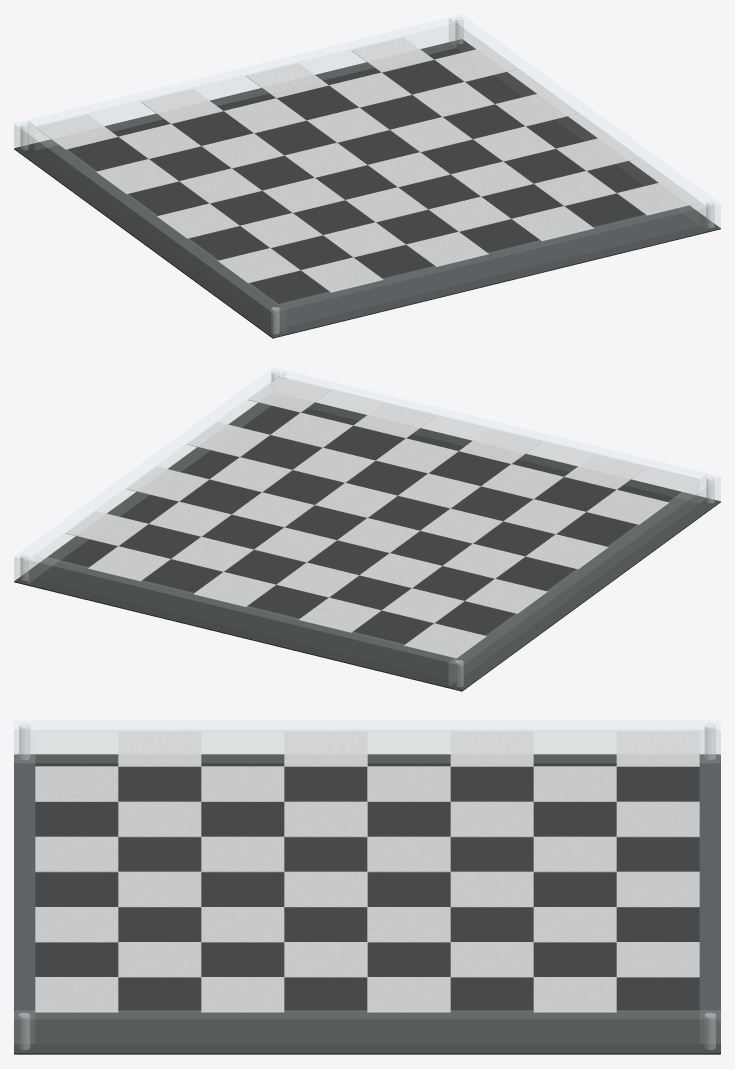
File: board.glb
3 views of the same model, one above another, from view 1: azimuth 30°, elevation 25°; view 2: azimuth 150°, elevation 25°; view 3: azimuth 270°, elevation 25° (orthographic). The views are drawn at different scales.
Parts seen in each view (by area): view 1: Podklad, Matovana_pole, Ram, Rohove_koliky; view 2: Podklad, Matovana_pole, Ram, Rohove_koliky; view 3: Podklad, Matovana_pole, Ram, Rohove_koliky.
Part boxes in pixels (x1=…): Podklad: x1=14, y1=39, x2=720, y2=338; Matovana_pole: x1=35, y1=37, x2=699, y2=292; Ram: x1=14, y1=15, x2=720, y2=336; Rohove_koliky: x1=20, y1=17, x2=714, y2=333; Podklad: x1=14, y1=402, x2=720, y2=691; Matovana_pole: x1=65, y1=377, x2=669, y2=658; Ram: x1=14, y1=368, x2=720, y2=689; Rohove_koliky: x1=20, y1=370, x2=714, y2=686; Podklad: x1=14, y1=754, x2=720, y2=1054; Matovana_pole: x1=35, y1=731, x2=699, y2=1012; Ram: x1=14, y1=720, x2=720, y2=1052; Rohove_koliky: x1=19, y1=723, x2=715, y2=1049.
Size of the model in its own units: 8.51 by 0.4676 by 8.51.
Materials: 5 (1 with a texture image).
